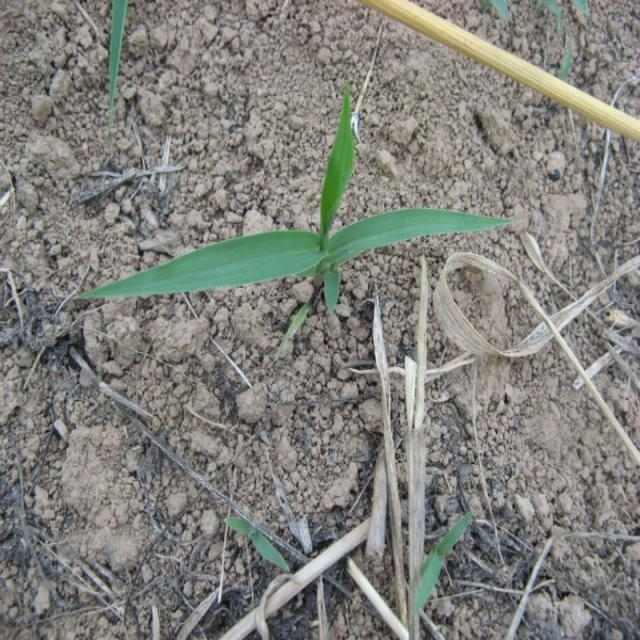bg: (74, 90, 510, 312)
